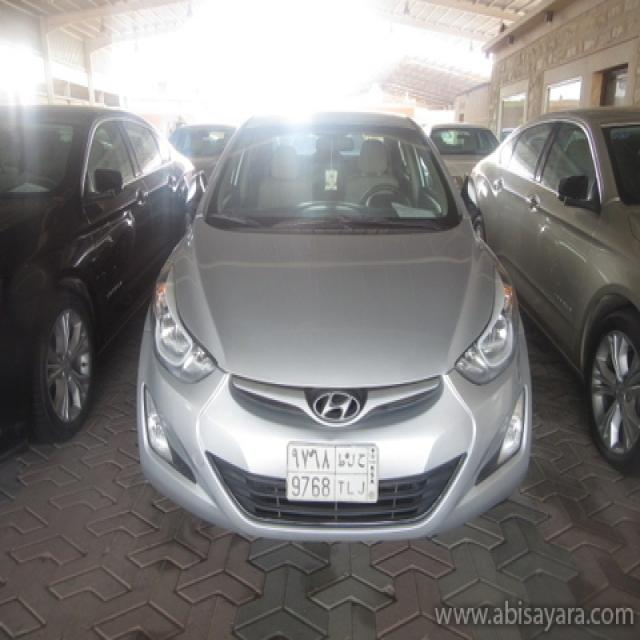license_plate: (285, 439, 380, 505)
